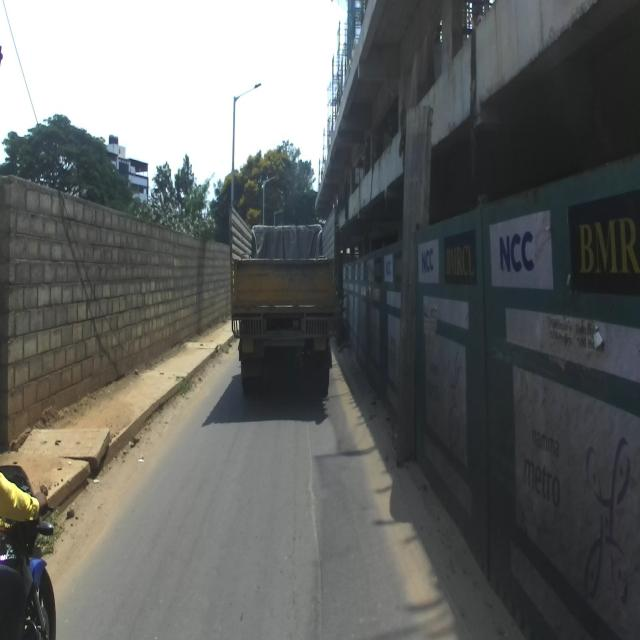motorcycle_bajaj: (0, 461, 57, 639)
truck: (226, 202, 345, 420)
